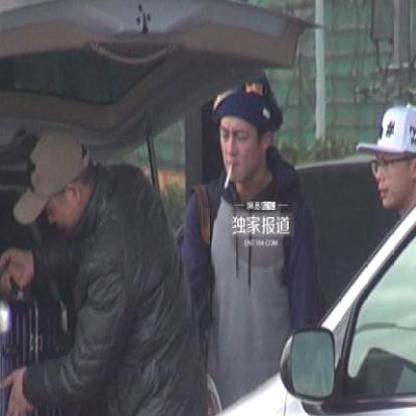cigarette: (224, 162, 236, 189)
person: (4, 122, 191, 415), (194, 82, 321, 397)
